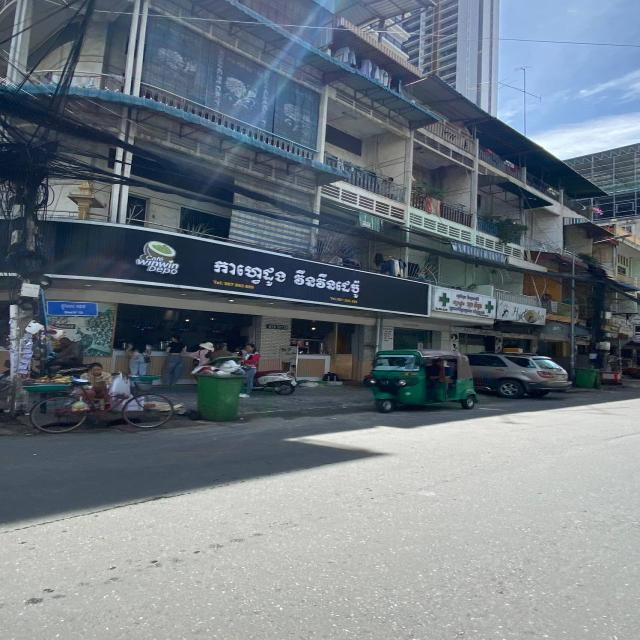Yolov11kh: (210, 253, 364, 300)
